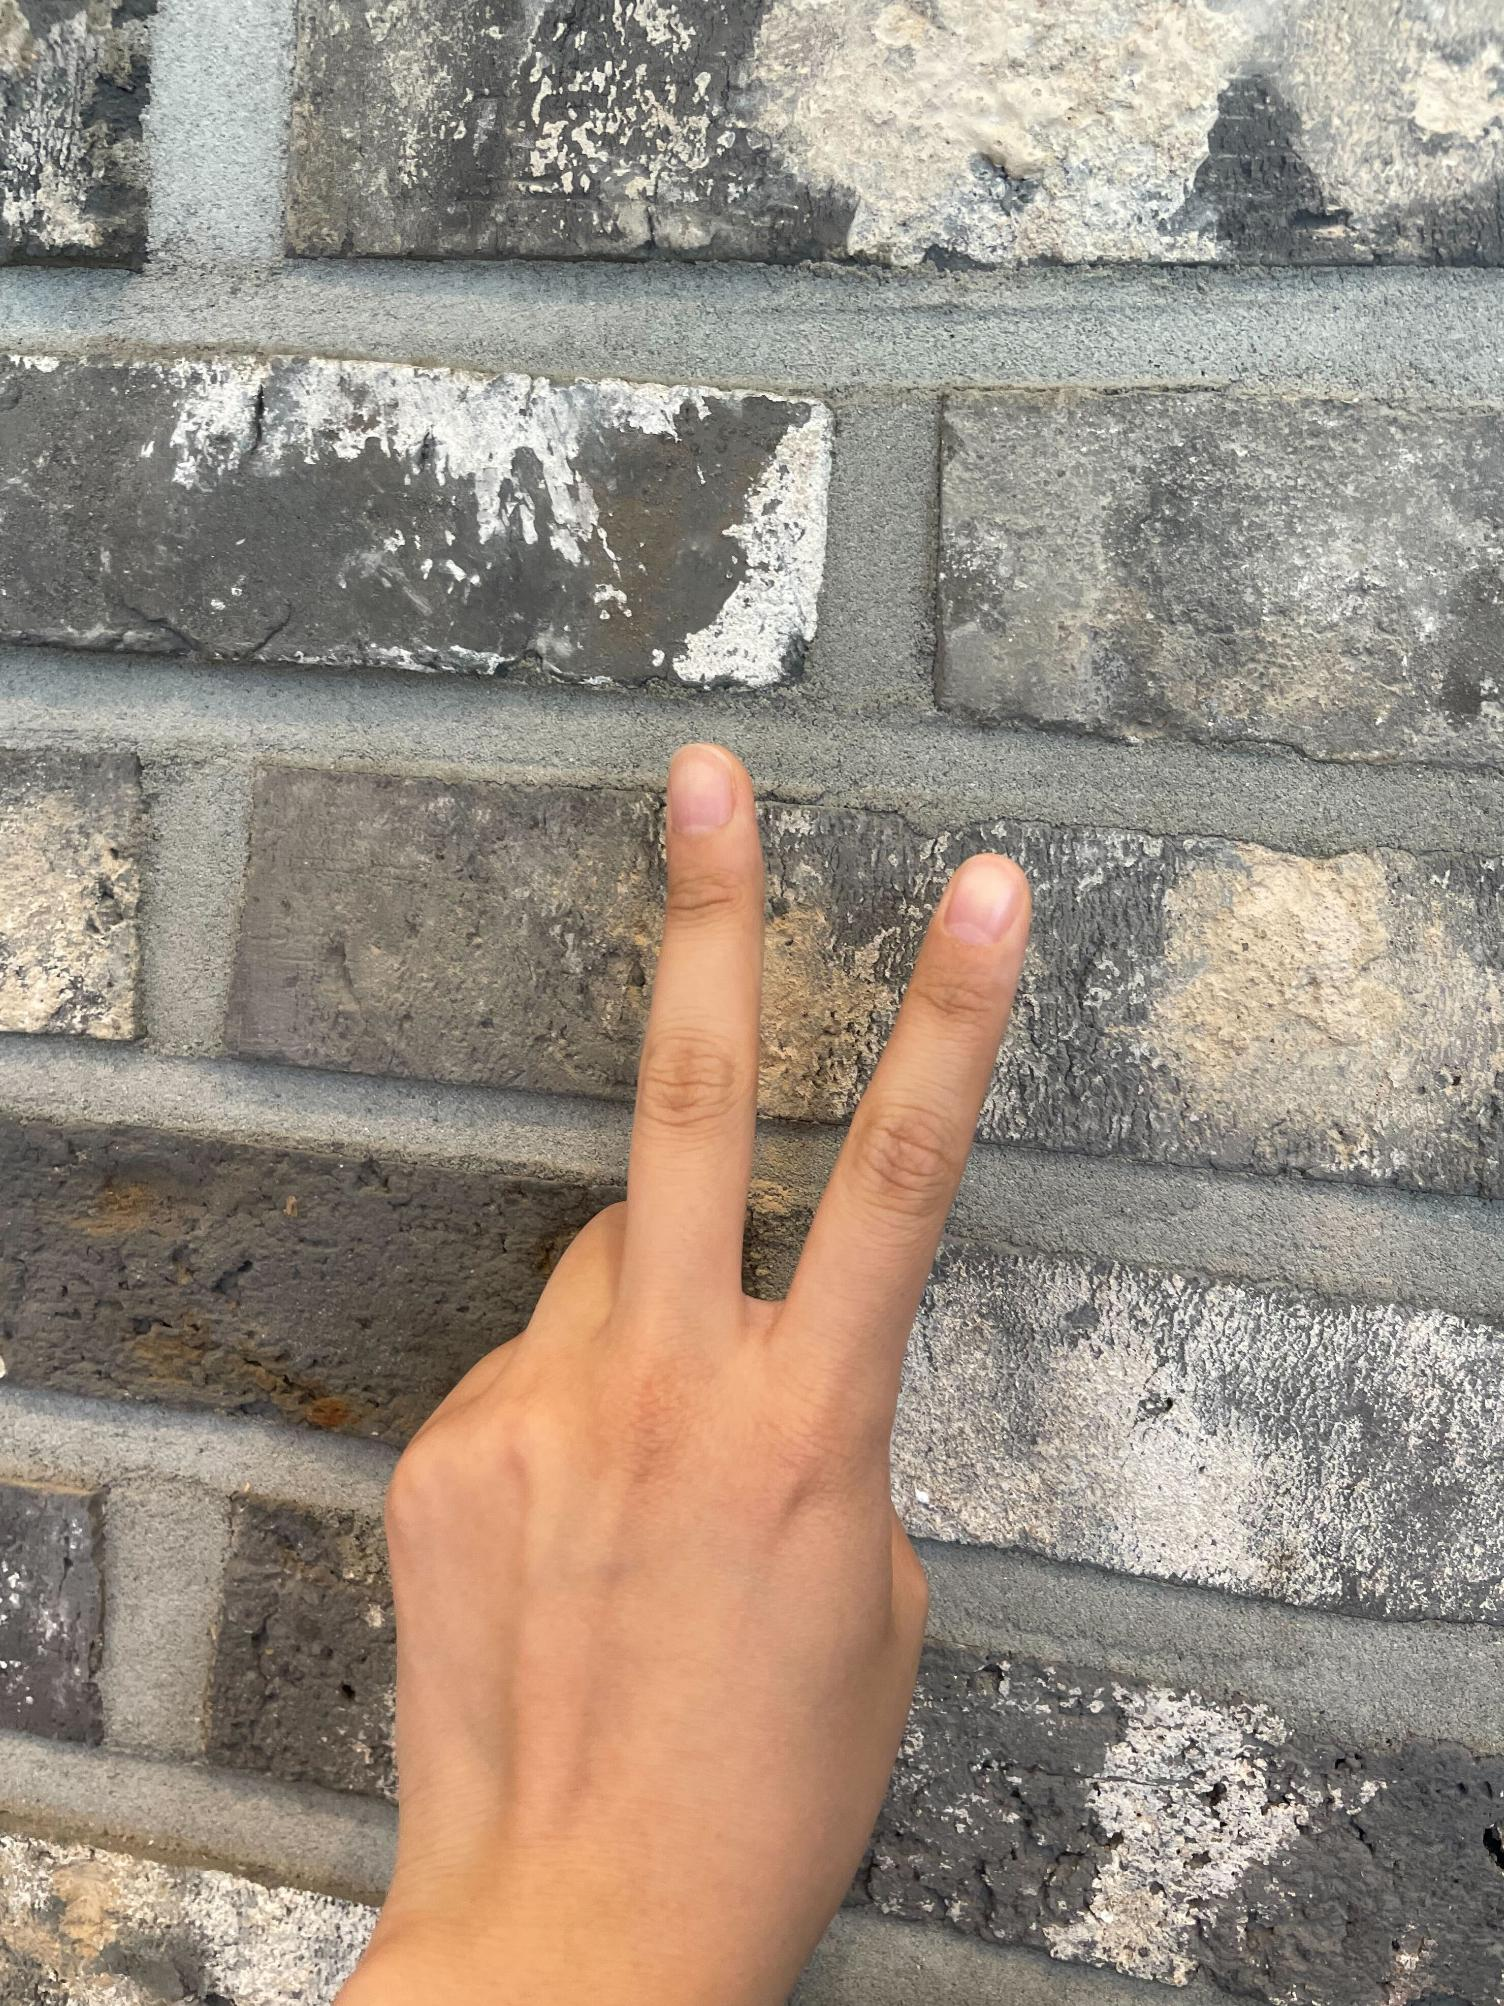v: (337, 731, 1043, 2006)
